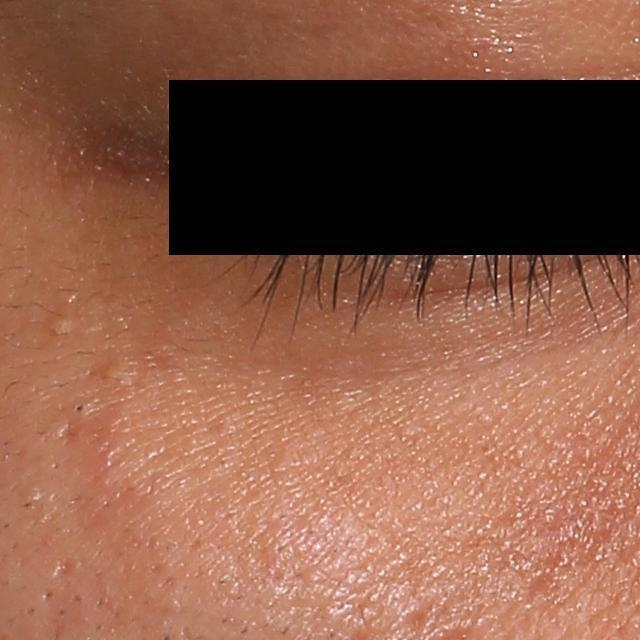atrophic_scar: (47, 554, 77, 582)
comedo: (40, 310, 82, 337), (100, 353, 123, 382)
